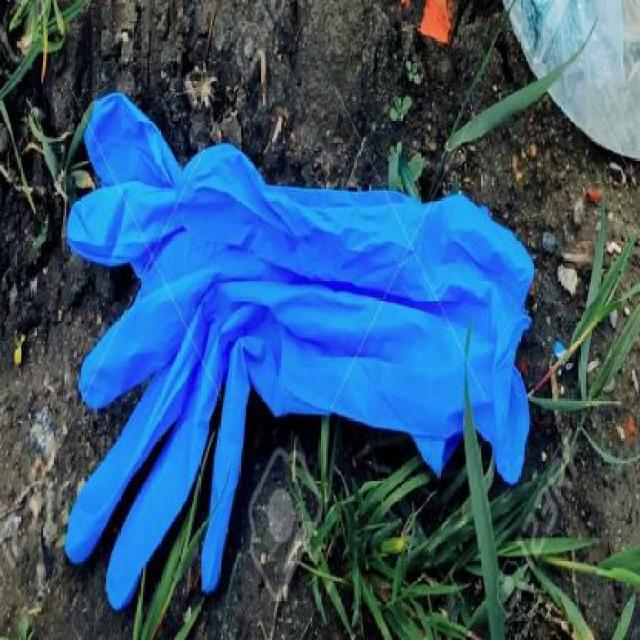glove_hand: (61, 80, 534, 638)
